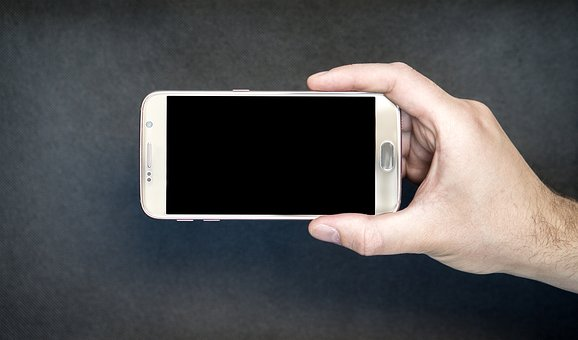mobile: (137, 83, 413, 216)
